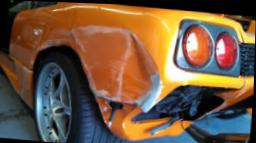Bumper: (101, 81, 253, 140), (0, 58, 34, 107)
Fender: (59, 18, 169, 108), (11, 11, 66, 69)
